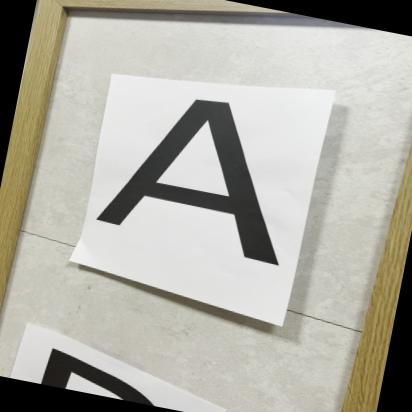seat: (78, 71, 342, 287)
